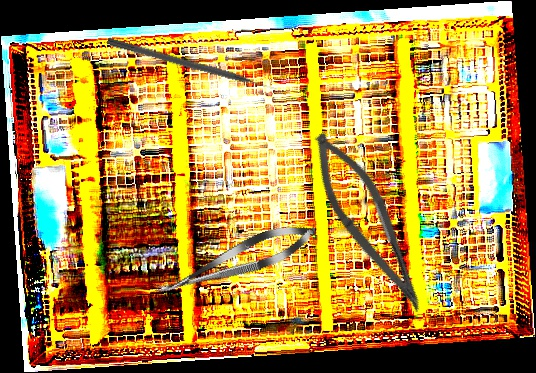Micro Scissor: (293, 123, 447, 321), (149, 214, 322, 308)
Pusher: (106, 36, 278, 96)
